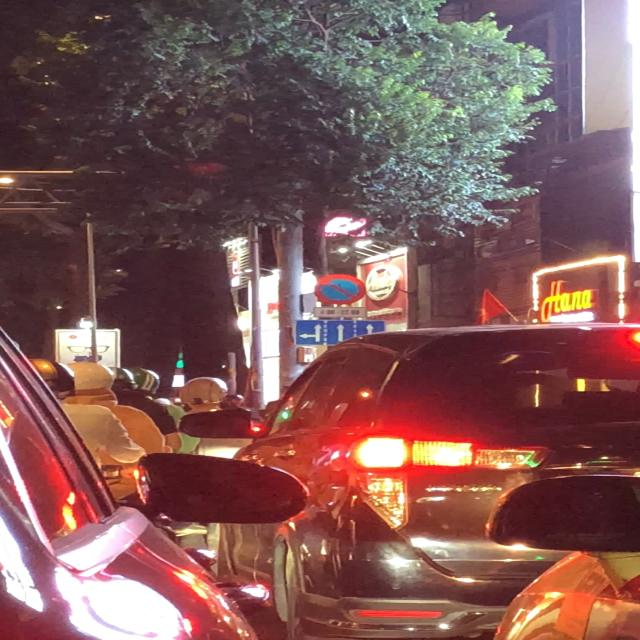Bien bao cam do xe: (312, 272, 370, 305)
